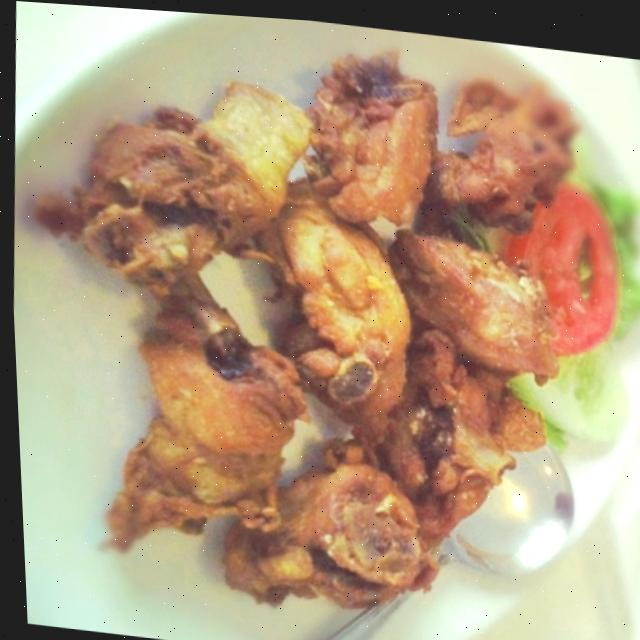鸡肉料理 含炸鸡: (19, 1, 640, 637)
